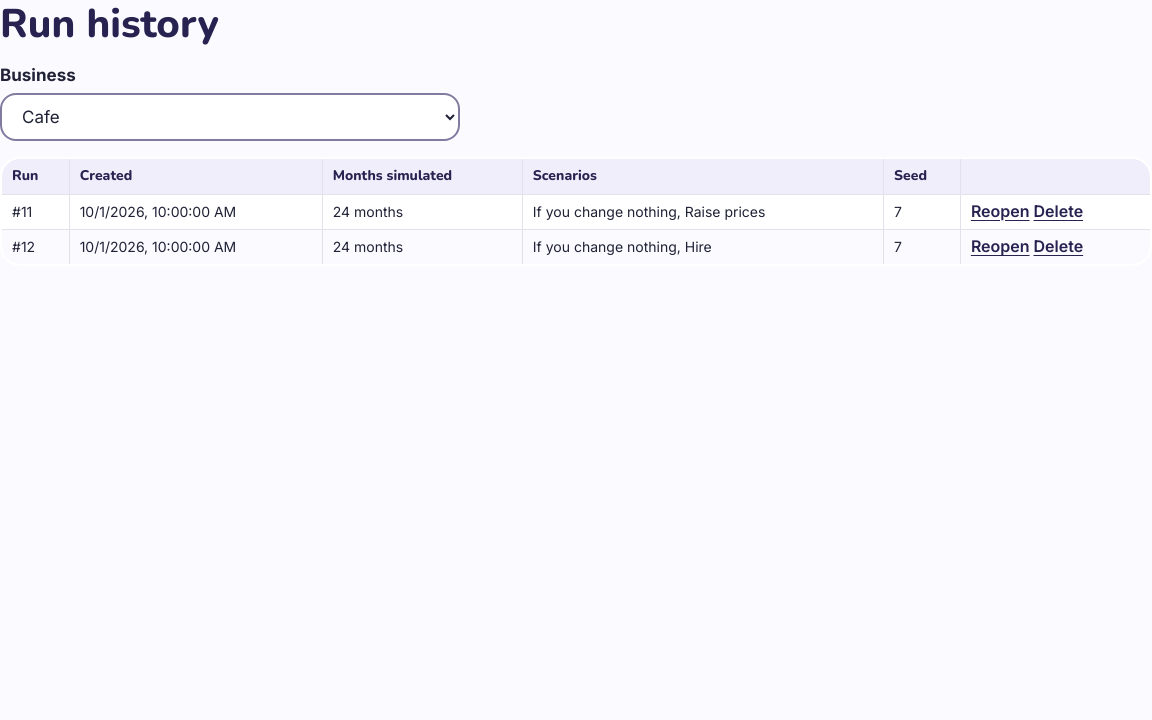
Test: run history: delete › each run has a Delete button, and asking deletes nothing
What coordinates should you click on to do the following:
click the button with aria-label "Delete run #11"
I would click on:
 (1058, 211)
Its box is [1034,202,1083,221].
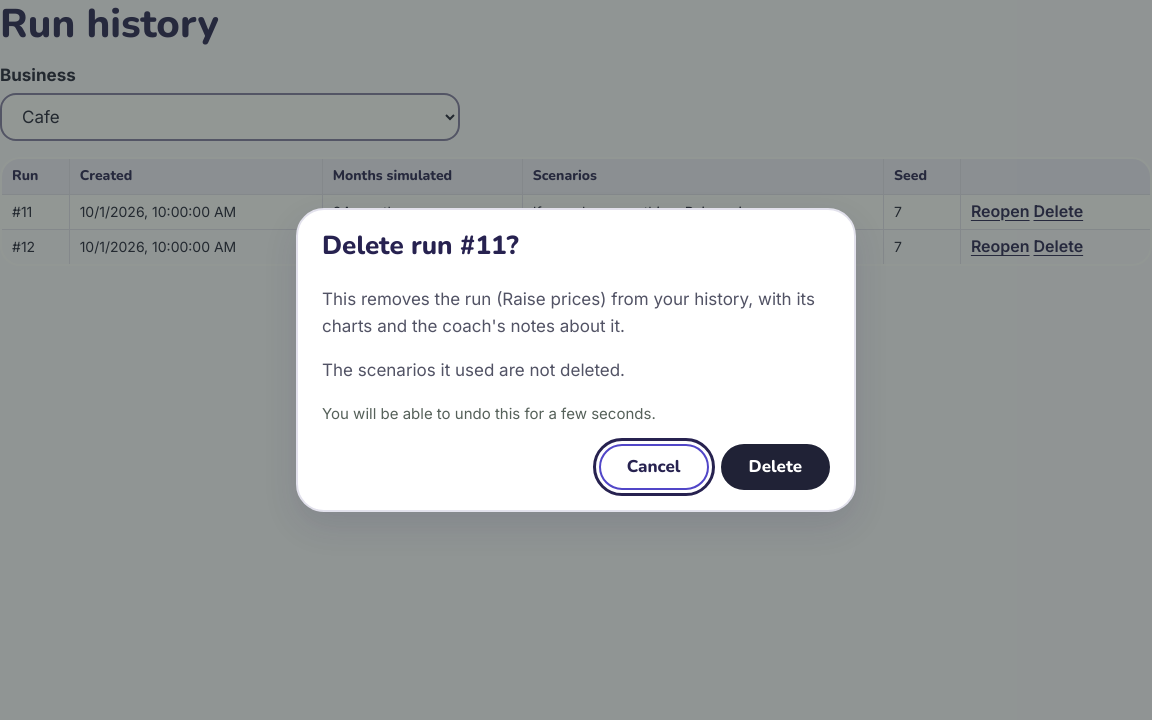
expect the button with aria-label "Delete run #12" is shown: met, box [1034,237,1083,256]
expect the text "from your history, with its charts and the coach's notes" is shown: met, box [322,289,815,336]
expect the button "Cancel" is shown: met, box [599,444,709,490]
